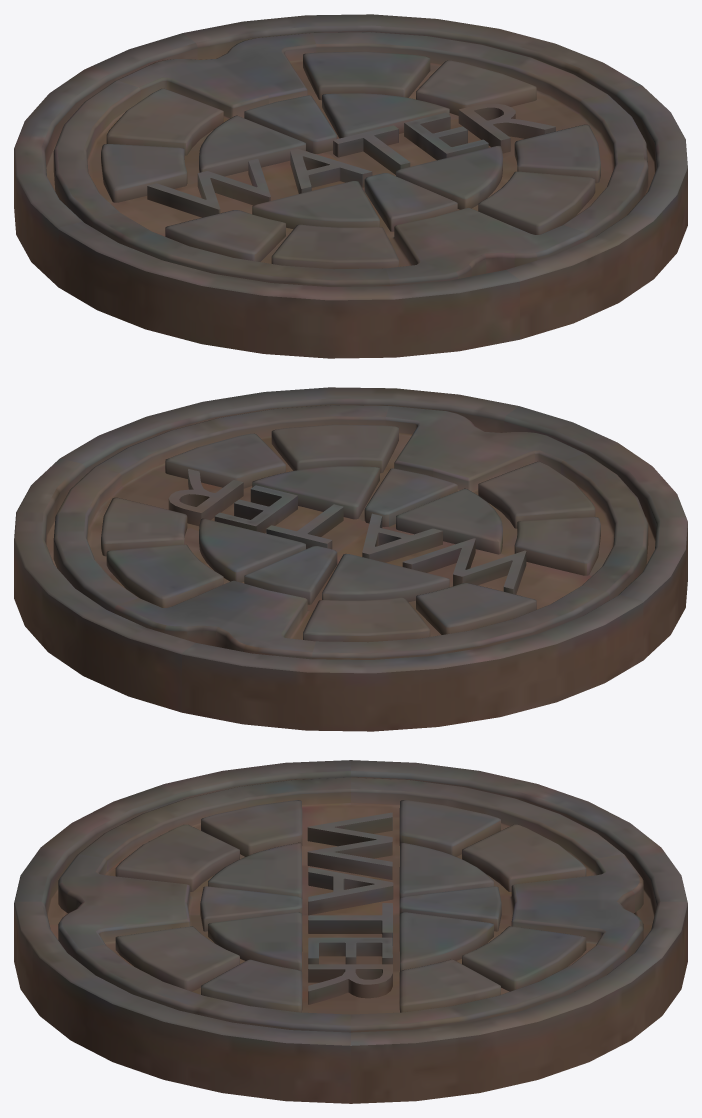
The model's file is water_manhole_cover.glb.
The picture shows the model from 3 angles, top to bottom: view 1: azimuth 30°, elevation 25°; view 2: azimuth 150°, elevation 25°; view 3: azimuth 270°, elevation 25°; orthographic projection.
Parts seen in each view (by area): view 1: water_manhole_cover, water_manhole_cover_frame; view 2: water_manhole_cover, water_manhole_cover_frame; view 3: water_manhole_cover, water_manhole_cover_frame.
Part boxes in pixels (bbox=[...]): water_manhole_cover: bbox=[53, 32, 648, 286]; water_manhole_cover_frame: bbox=[14, 14, 687, 358]; water_manhole_cover: bbox=[53, 405, 648, 659]; water_manhole_cover_frame: bbox=[14, 387, 687, 731]; water_manhole_cover: bbox=[58, 777, 643, 1032]; water_manhole_cover_frame: bbox=[14, 760, 687, 1103].
Size of the model in its own units: 0.6908 by 0.0676 by 0.6908.
Materials: 1 (1 with a texture image).
